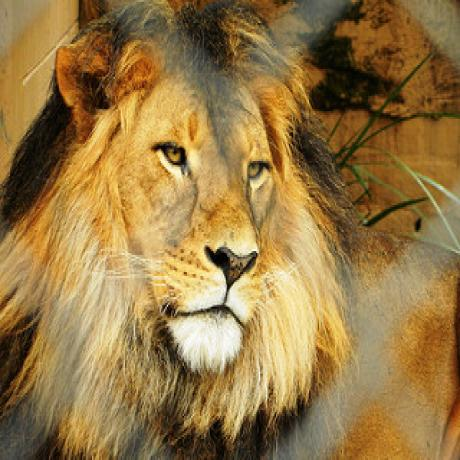Lion: (0, 0, 354, 460)
